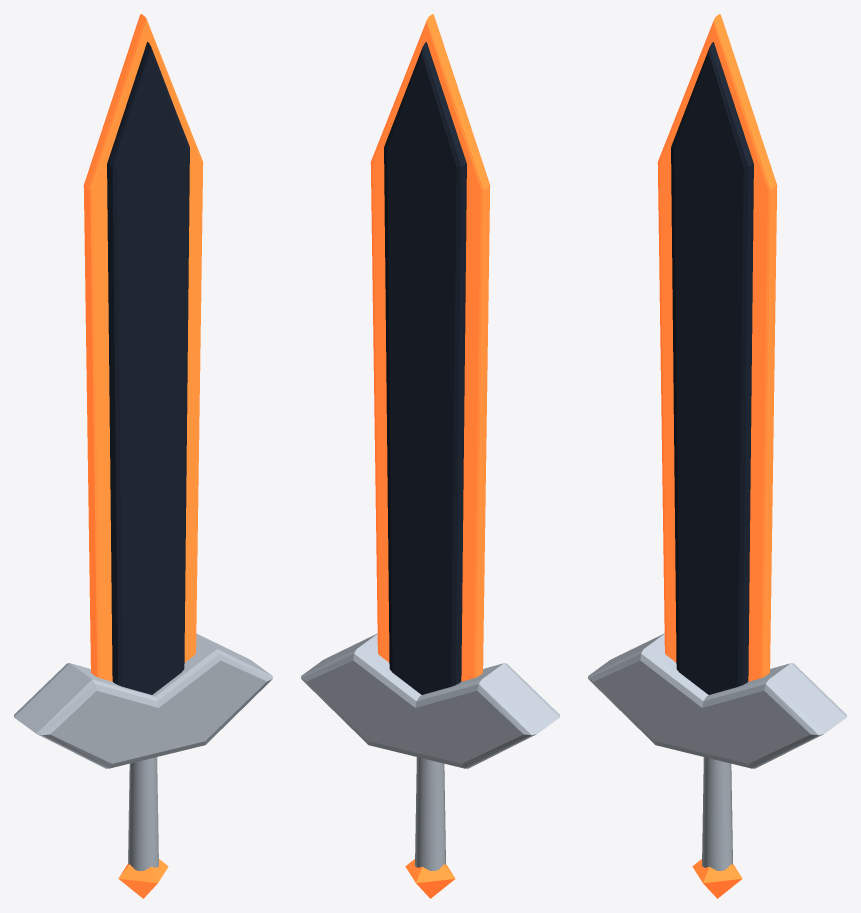
The model's file is weapon_pyro.glb.
The picture shows the model from 3 angles, left to right: view 1: azimuth 30°, elevation 25°; view 2: azimuth 150°, elevation 25°; view 3: azimuth 330°, elevation 25°; orthographic projection.
Parts seen in each view (by area): view 1: BladeCore, BladePlasmaEdge, Crossguard, Grip, Pommel; view 2: BladeCore, BladePlasmaEdge, Crossguard, Grip, Pommel; view 3: BladeCore, BladePlasmaEdge, Crossguard, Grip, Pommel.
Boxes of the visible parts, left/top/right/bottom form: BladeCore: left=107, top=42, right=189, bottom=694; BladePlasmaEdge: left=83, top=14, right=203, bottom=681; Crossguard: left=14, top=633, right=272, bottom=768; Grip: left=128, top=757, right=158, bottom=870; Pommel: left=118, top=859, right=168, bottom=898; BladeCore: left=384, top=42, right=466, bottom=694; BladePlasmaEdge: left=370, top=14, right=490, bottom=681; Crossguard: left=301, top=633, right=559, bottom=768; Grip: left=415, top=757, right=445, bottom=870; Pommel: left=405, top=859, right=455, bottom=898; BladeCore: left=671, top=42, right=753, bottom=694; BladePlasmaEdge: left=657, top=14, right=777, bottom=681; Crossguard: left=588, top=633, right=846, bottom=768; Grip: left=702, top=757, right=732, bottom=870; Pommel: left=692, top=859, right=742, bottom=898.
Size of the model in its own units: 0.6109 by 2.18 by 0.136.
